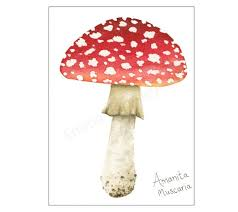Amanita muscaria: (50, 9, 190, 199)
